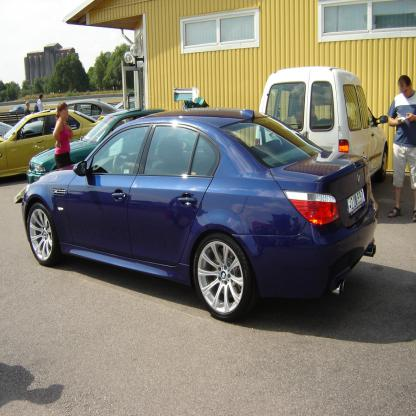Car: (19, 97, 379, 323), (29, 107, 191, 177), (0, 109, 104, 178), (64, 99, 123, 120)
